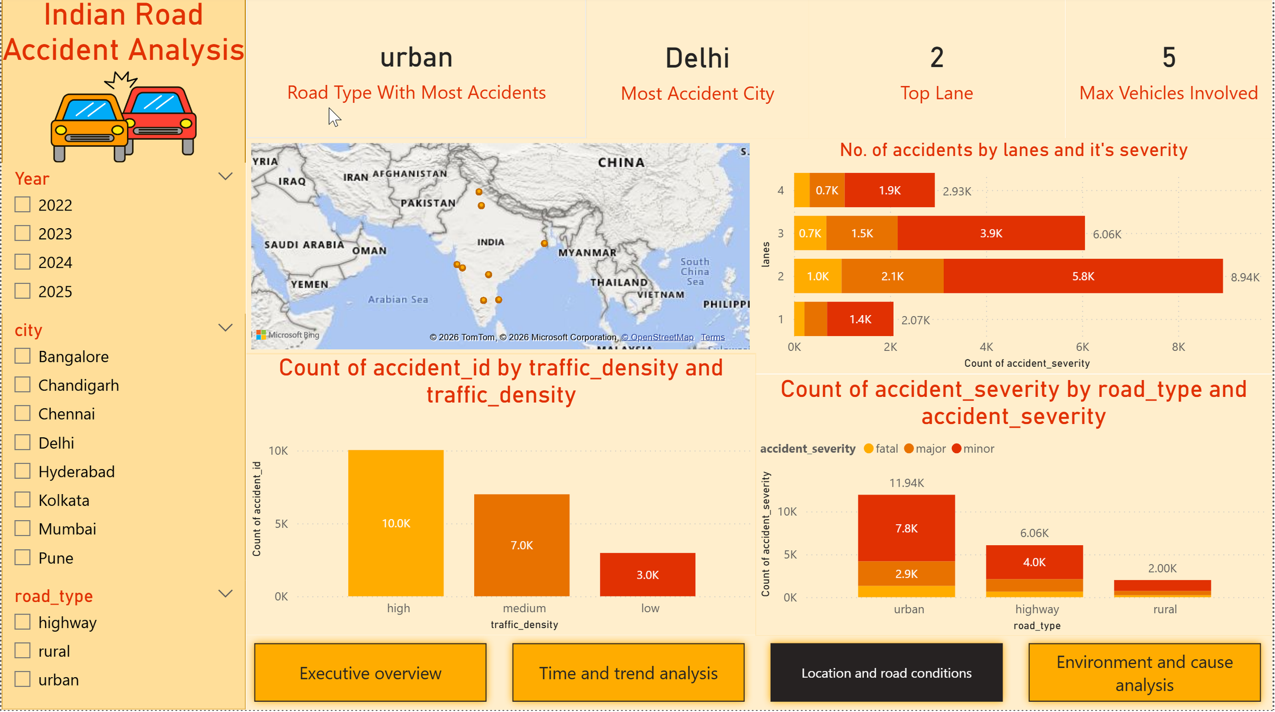

What the dashboard file says about the page in this screenshot:
{"tool":"powerbi","page":{"name":"Location and road conditions ","canvas":[1280,720],"ordinal":2},"visuals":[{"type":"shape","box":[0,2.3,246,717.7],"z":0},{"type":"card","fields":{"Values":["Table.Road Type With Most Accidents"]},"box":[246,0,343.1,143.3],"z":1000},{"type":"card","fields":{"Values":["Table.Most Accident City"]},"box":[589.2,1.2,224.1,142.4],"z":2000},{"type":"columnChart","fields":{"Category":["indian_roads_dataset.road_type"],"Y":["CountNonNull(indian_roads_dataset.accident_severity)"],"Series":["indian_roads_dataset.accident_severity"]},"box":[758.8,381.3,521.2,263.7],"z":3000},{"type":"columnChart","fields":{"Series":["indian_roads_dataset.traffic_density"],"Category":["indian_roads_dataset.traffic_density"],"Y":["CountNonNull(indian_roads_dataset.accident_id)"]},"box":[246,360,513.5,284.4],"z":4000},{"type":"slicer","fields":{"Values":["indian_roads_dataset.city"]},"box":[0,320.8,246.5,268.2],"z":5000},{"type":"slicer","fields":{"Values":["indian_roads_dataset.Year"]},"box":[0,168.2,246,152.4],"z":6000},{"type":"slicer","fields":{"Values":["indian_roads_dataset.road_type"]},"box":[0,589.1,246,130.9],"z":7000},{"type":"image","title":"Indian Road Accident Analysis","box":[0,0,246,168.2],"z":8000},{"type":"pageNavigator","box":[246,644.4,1033.7,75.6],"z":9000},{"type":"barChart","title":"No. of accidents by lanes and it''s severity","fields":{"Y":["CountNonNull(indian_roads_dataset.accident_severity)"],"Category":["indian_roads_dataset.lanes"],"Series":["indian_roads_dataset.accident_severity"]},"box":[758.8,143.6,521.2,237.7],"z":10000},{"type":"card","fields":{"Values":["Table.Top Lane"]},"box":[813.2,0,258.7,143.7],"z":11000},{"type":"card","fields":{"Values":["Table.Max Vehicles Involved"]},"box":[1071.9,0,208.1,143.7],"z":12000},{"type":"map","fields":{"Y":["indian_roads_dataset.latitude"],"X":["indian_roads_dataset.longitude"]},"box":[246,143.3,512.4,217.8],"z":13000}]}

Visuals, with their boxes in screenshot pixels (x1, y1, x2, y2), scaled from the page's 1280x720 canvas onto the 1275x712 screenshot:
shape: l=0, t=2, r=245, b=711
card - Table.Road Type With Most Accidents: l=245, t=0, r=587, b=142
card - Table.Most Accident City: l=587, t=1, r=810, b=142
columnChart - indian_roads_dataset.road_type x CountNonNull(indian_roads_dataset.accident_severity): l=756, t=377, r=1274, b=638
columnChart - indian_roads_dataset.traffic_density x indian_roads_dataset.traffic_density: l=245, t=356, r=757, b=637
slicer - indian_roads_dataset.city: l=0, t=317, r=246, b=582
slicer - indian_roads_dataset.Year: l=0, t=166, r=245, b=317
slicer - indian_roads_dataset.road_type: l=0, t=583, r=245, b=711
"Indian Road Accident Analysis" image: l=0, t=0, r=245, b=166
pageNavigator: l=245, t=637, r=1274, b=711
"No. of accidents by lanes and it''s severity" barChart: l=756, t=142, r=1274, b=377
card - Table.Top Lane: l=810, t=0, r=1068, b=142
card - Table.Max Vehicles Involved: l=1068, t=0, r=1274, b=142
map - indian_roads_dataset.latitude x indian_roads_dataset.longitude: l=245, t=142, r=755, b=357
